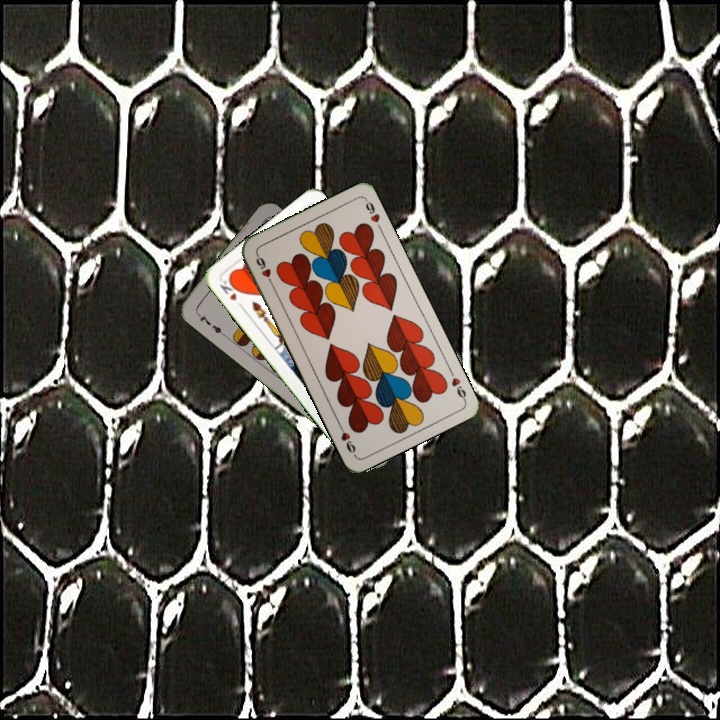E7: (192, 308, 227, 338)
H9: (252, 250, 276, 288), (445, 365, 469, 403)
HK: (216, 273, 246, 312)
